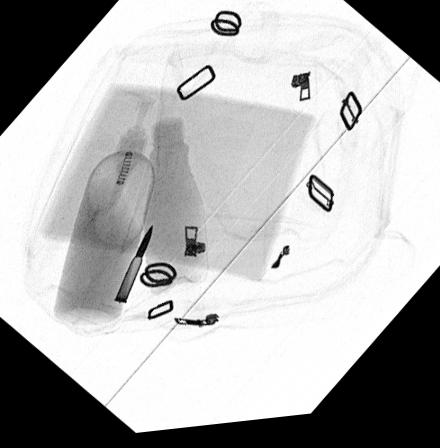Bullet: (112, 226, 153, 306)
